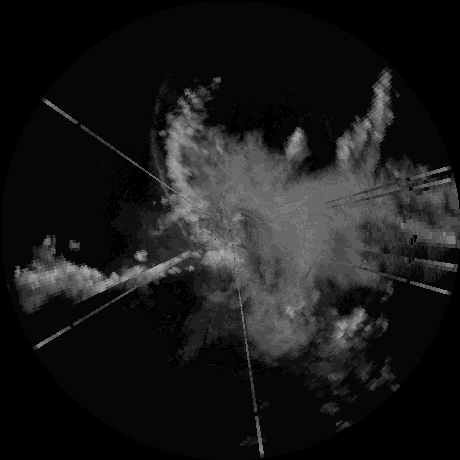frontgust: (148, 120, 172, 199), (176, 219, 197, 244)
